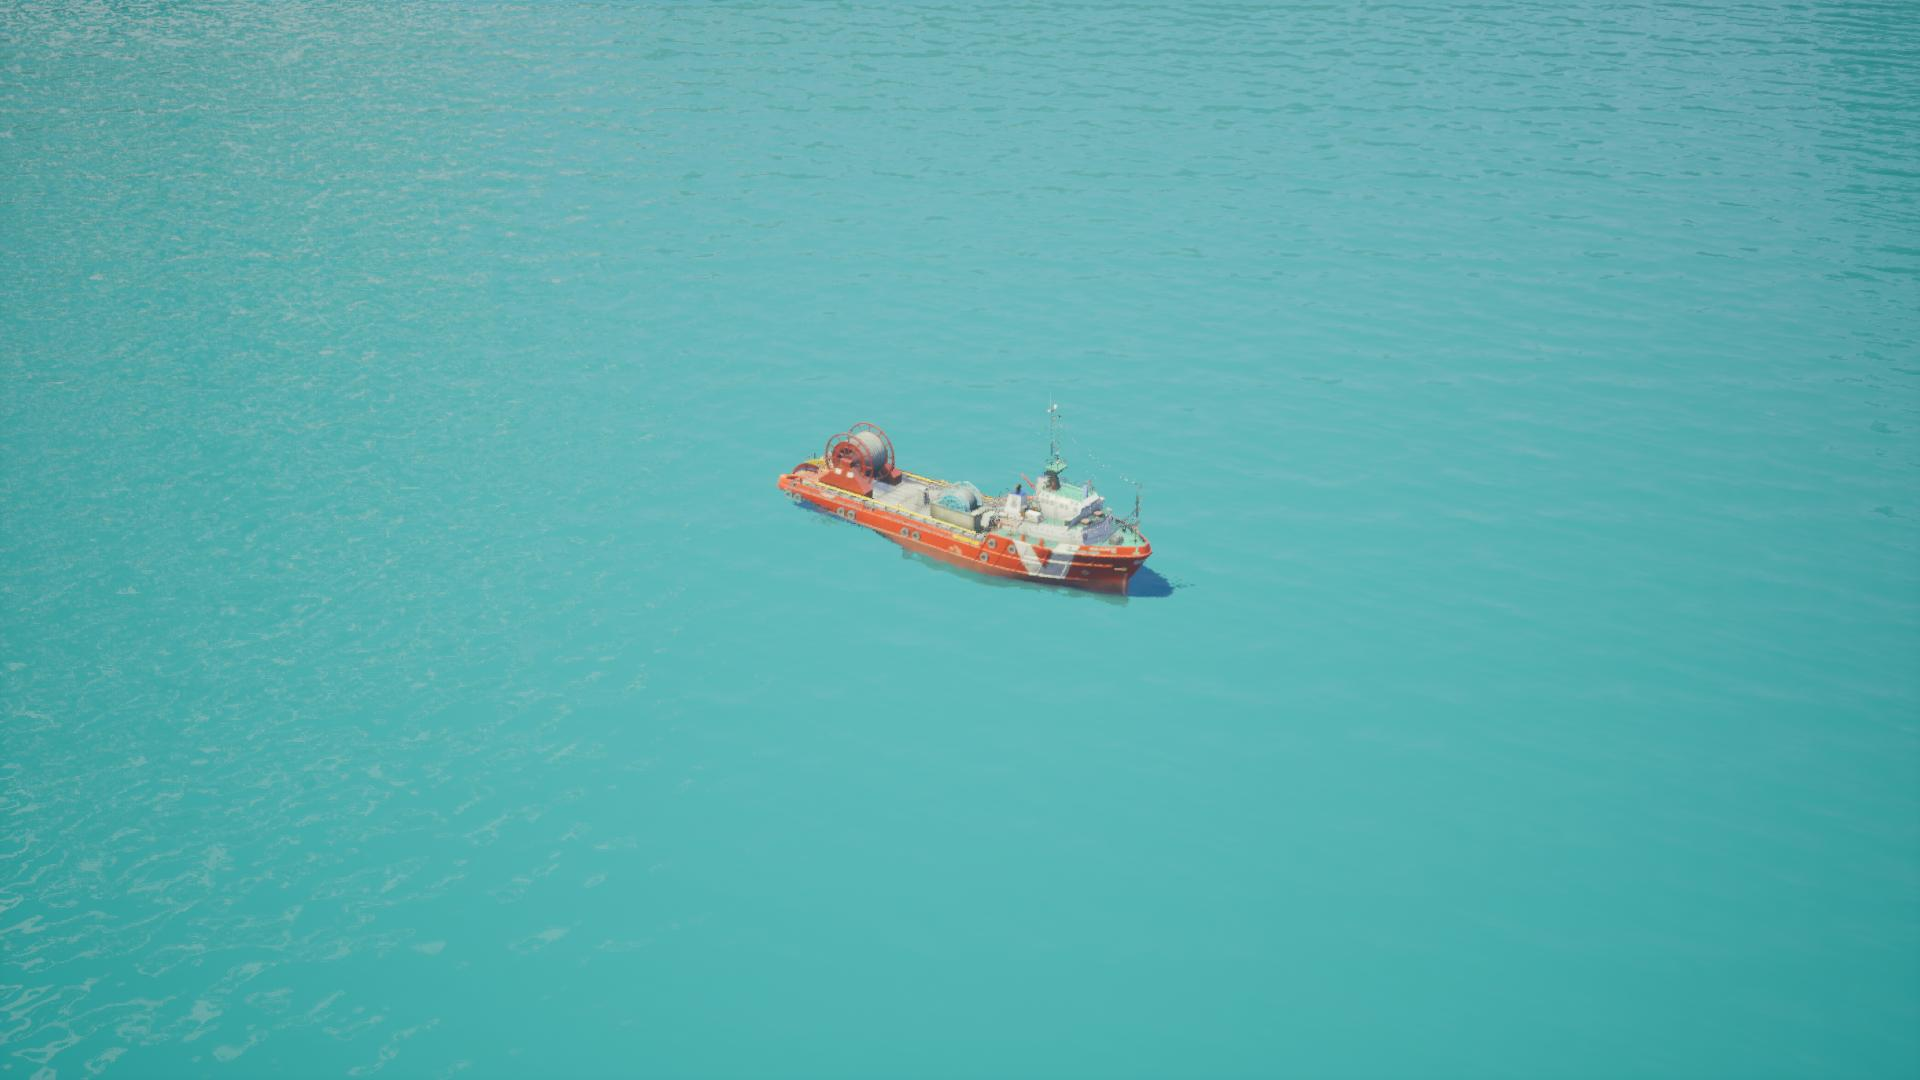Tug Boat: (707, 318, 1182, 693)
